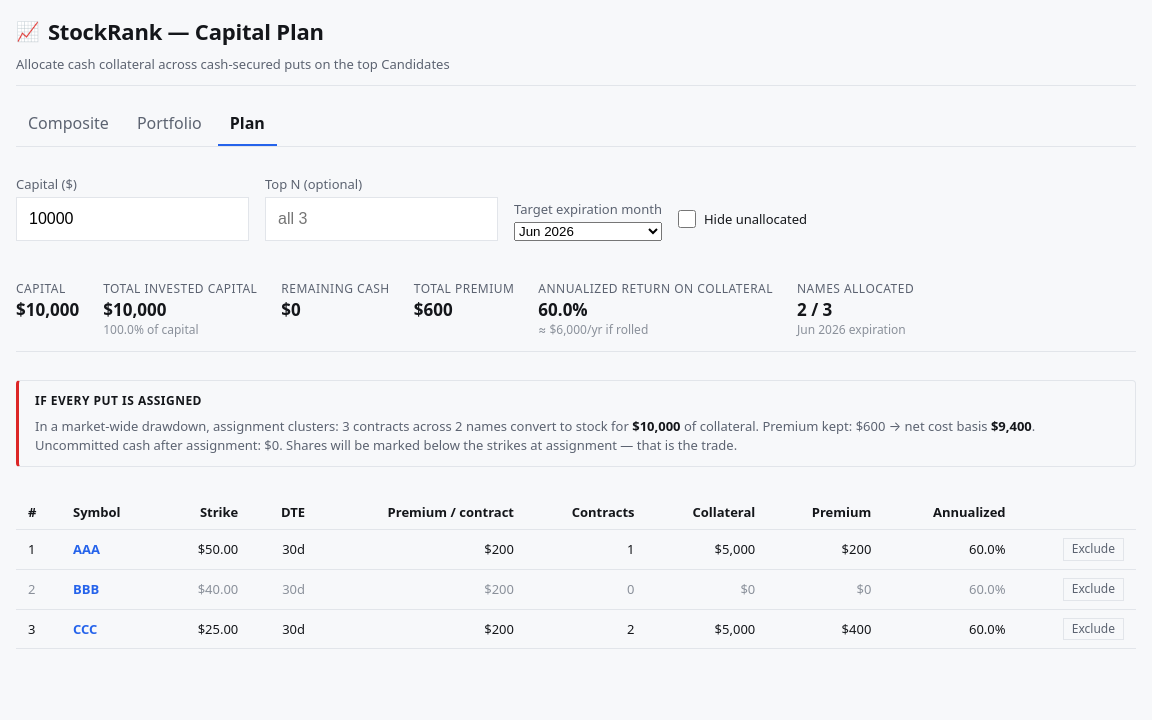
<CapitalPlanScreen /> › caps allocation to topN when supplied
The image size is (1152, 720).
Step 1. Type "2" into the number field named "maximum number of candidates" → (382, 219), box x1=265 y1=197 x2=498 y2=241
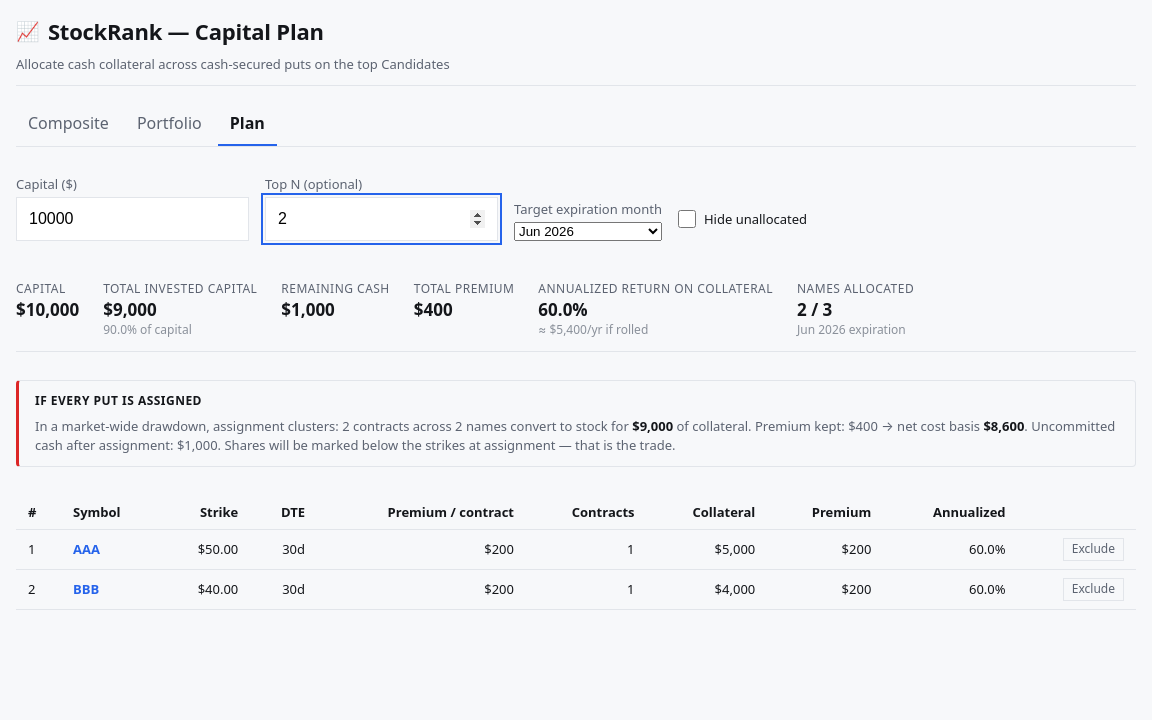
Expected: the button "AAA" is shown, x1=73 y1=540 x2=100 y2=558
Expected: the button "CCC" is gone
